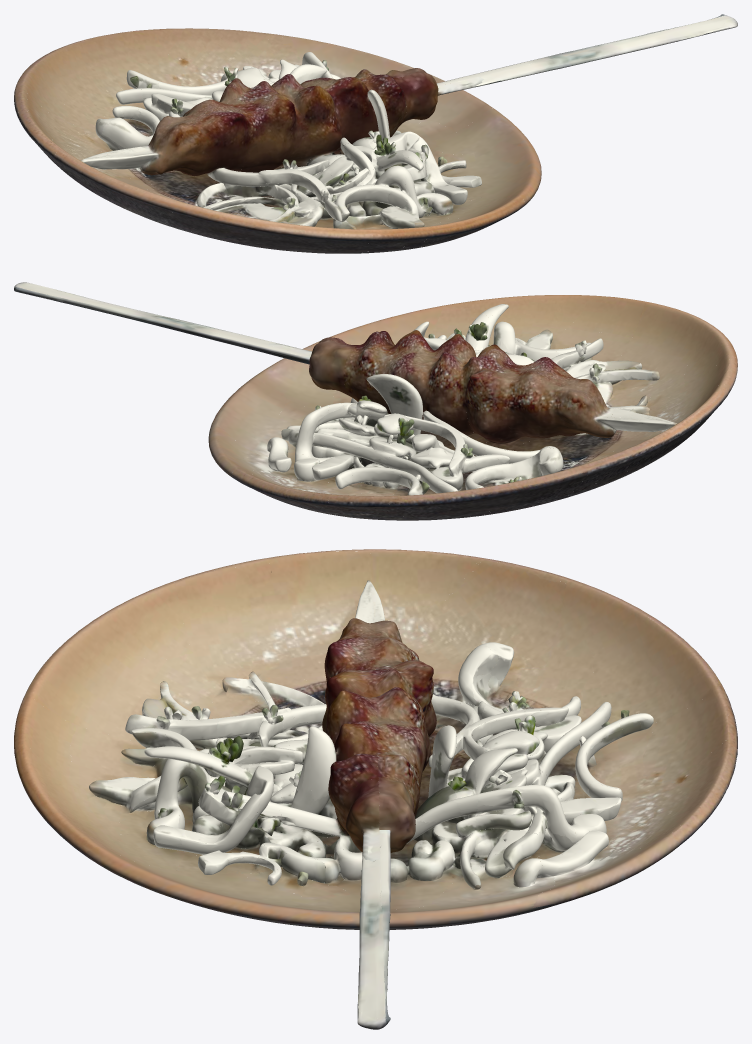
The model's file is qiymali_hq.glb.
3 views of the same model, one above another, from view 1: azimuth 30°, elevation 25°; view 2: azimuth 150°, elevation 25°; view 3: azimuth 270°, elevation 25° (orthographic). The views are drawn at different scales.
Visible parts, largest first — view 1: tripo_node_be14ae13-f252-4d00-b190-436366d1ed06; view 2: tripo_node_be14ae13-f252-4d00-b190-436366d1ed06; view 3: tripo_node_be14ae13-f252-4d00-b190-436366d1ed06.
Part boxes in pixels (x1,y1,x2,y2): tripo_node_be14ae13-f252-4d00-b190-436366d1ed06: (14,14,737,253); tripo_node_be14ae13-f252-4d00-b190-436366d1ed06: (14,282,737,520); tripo_node_be14ae13-f252-4d00-b190-436366d1ed06: (14,549,737,1029).
Size of the model in its own units: 0.9794 by 0.1547 by 0.6906.
1 material, 1 textured.
